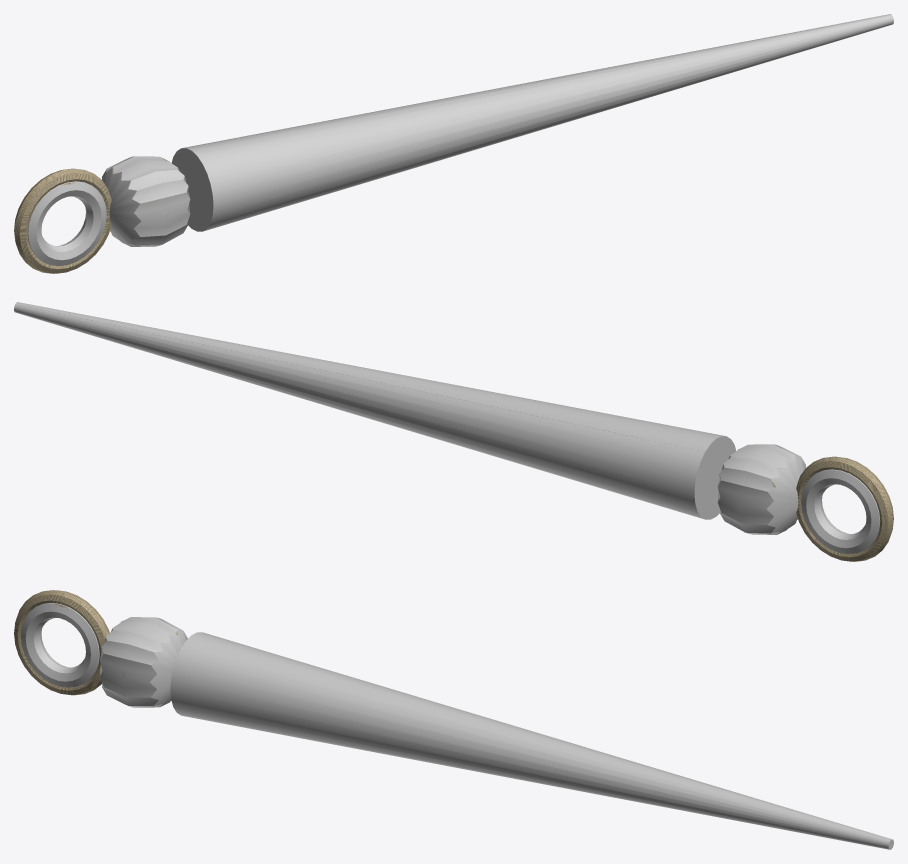
The model's file is spike.glb.
3 renders of one model, top to bottom at view 1: azimuth 30°, elevation 25°; view 2: azimuth 150°, elevation 25°; view 3: azimuth 330°, elevation 25°, orthographic.
Parts seen in each view (by area): view 1: spike, head, eye, lanyard; view 2: spike, head, eye, lanyard; view 3: spike, head, eye, lanyard.
Part boxes in pixels (left/top/right/bottom): spike: left=171, top=14, right=893, bottom=231; head: left=102, top=156, right=190, bottom=246; eye: left=27, top=181, right=106, bottom=266; lanyard: left=14, top=168, right=111, bottom=273; spike: left=14, top=302, right=736, bottom=519; head: left=717, top=444, right=805, bottom=534; eye: left=801, top=469, right=880, bottom=554; lanyard: left=796, top=456, right=893, bottom=561; spike: left=170, top=632, right=893, bottom=849; head: left=100, top=617, right=187, bottom=707; eye: left=20, top=603, right=99, bottom=687; lanyard: left=14, top=590, right=109, bottom=695.
Bounding box in the file's own units: 0.376 × 0.042 × 0.0325.
Materials: 1 (1 with a texture image).
